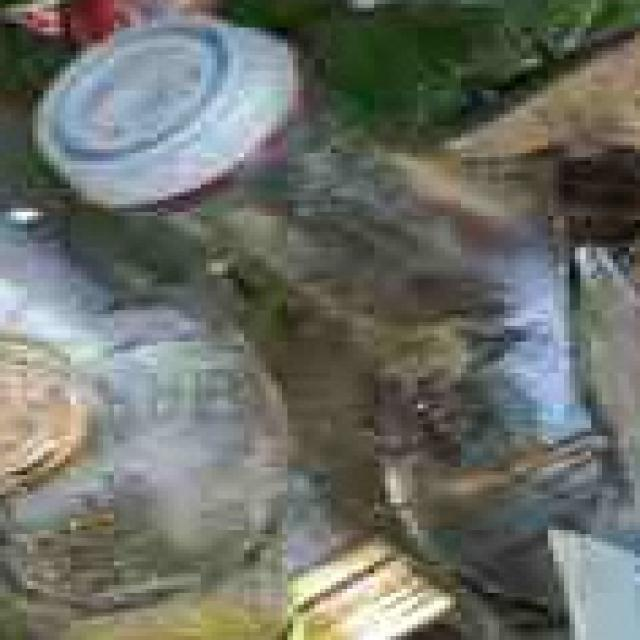glass: (168, 90, 640, 638)
metal: (38, 16, 298, 206), (290, 542, 461, 640), (0, 342, 92, 493)
